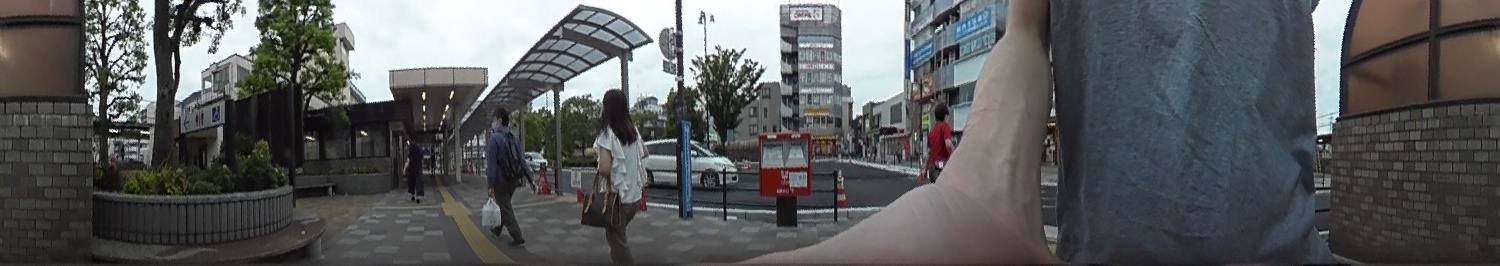person: (587, 86, 643, 264), (486, 105, 527, 247), (922, 101, 957, 180), (404, 141, 426, 203)
